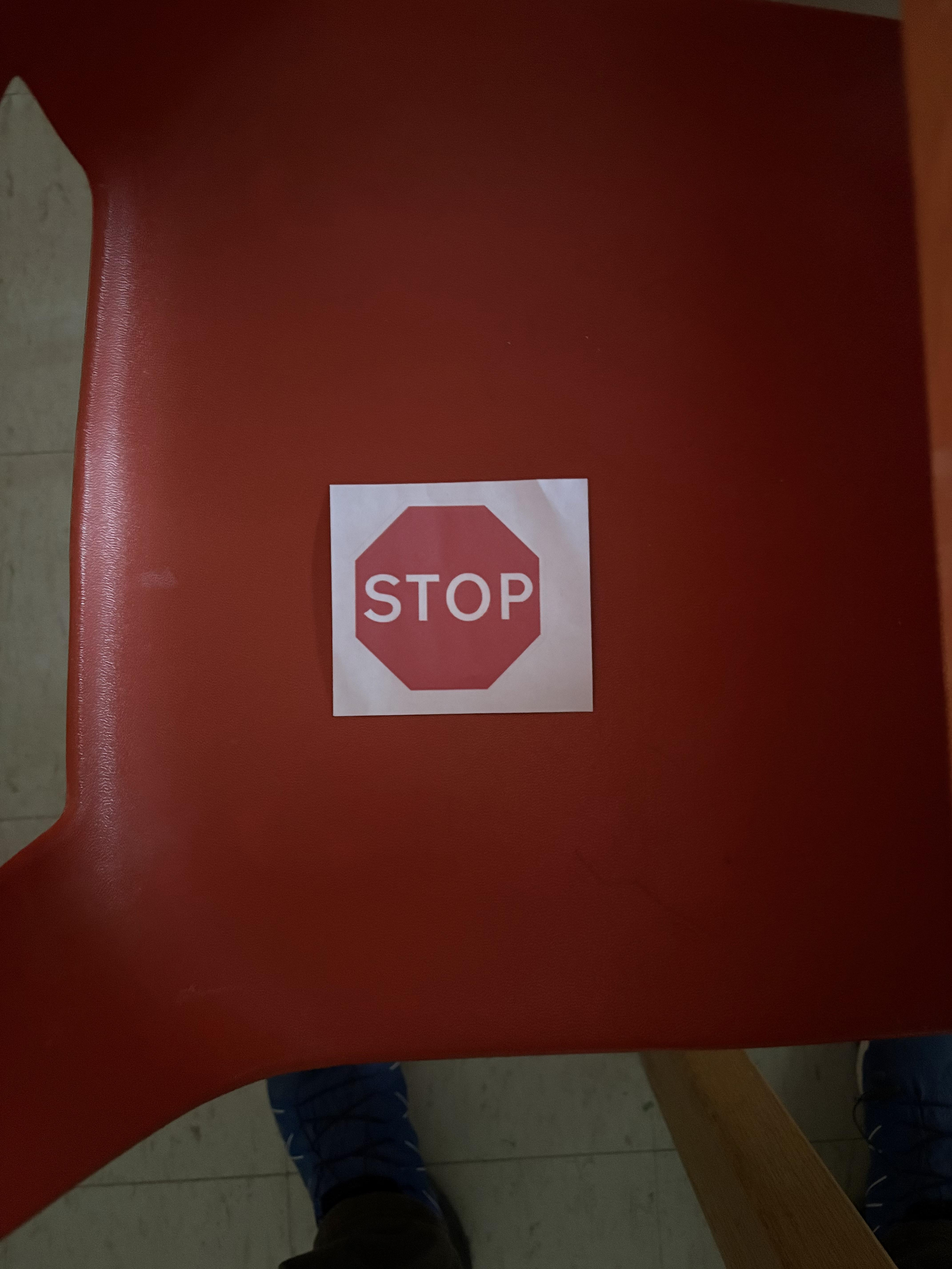Stop: (329, 484, 592, 710)
